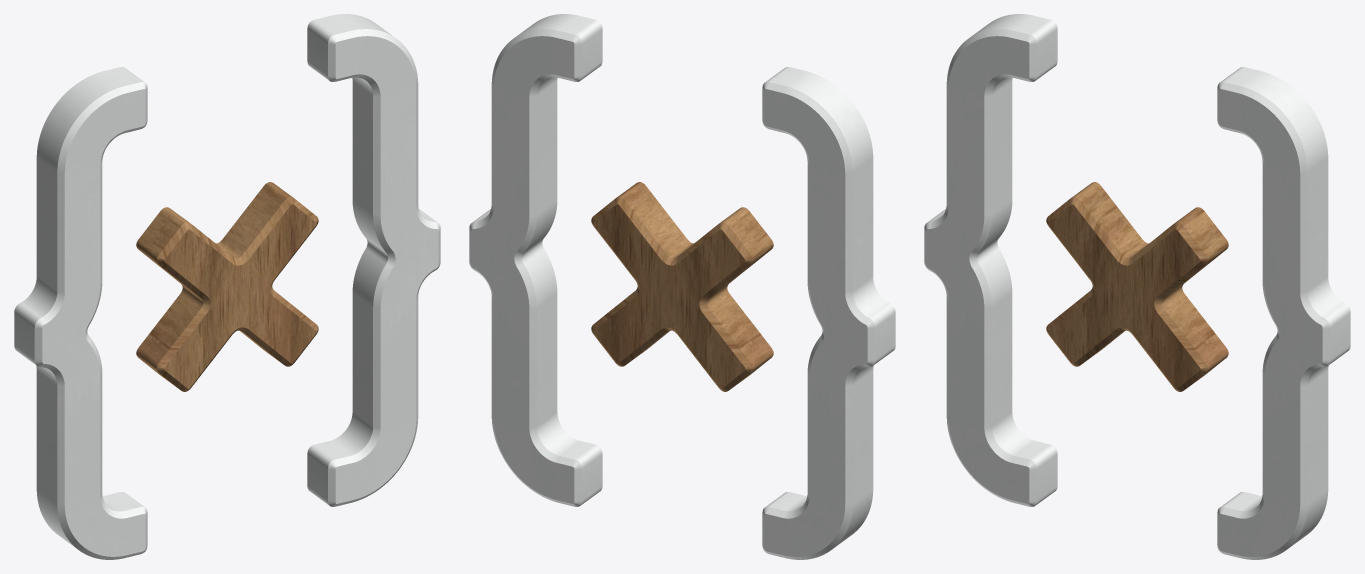
File: foundation.glb
3 views of the same model, side by side, from view 1: azimuth 30°, elevation 25°; view 2: azimuth 150°, elevation 25°; view 3: azimuth 330°, elevation 25° (orthographic).
Parts seen in each view (by area): view 1: Icon; view 2: Icon; view 3: Icon.
Part boxes in pixels (<box>): Icon: <box>14,14,440,559</box>; Icon: <box>469,14,895,559</box>; Icon: <box>924,14,1350,559</box>.
Size of the model in its own units: 0.18 by 0.2 by 0.02.
2 materials, 2 textured.
